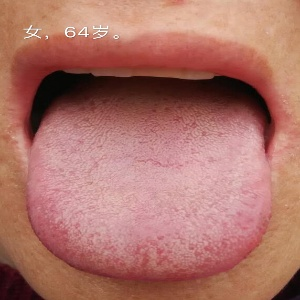st: (23, 121, 276, 280)
